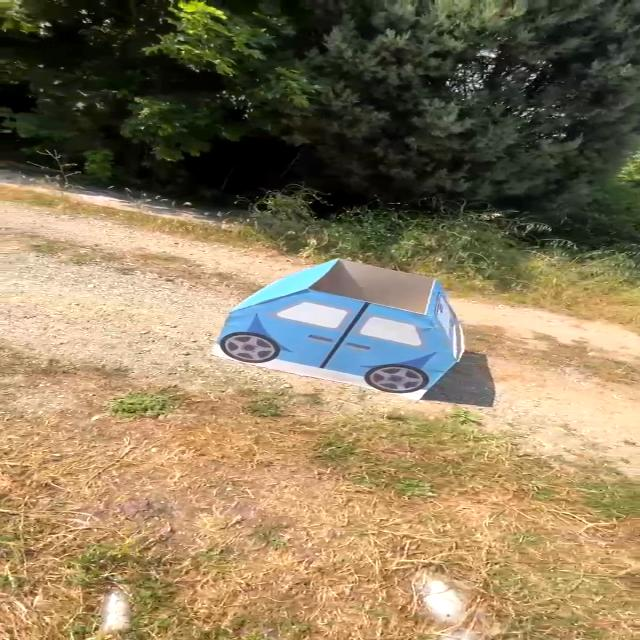blue_car: (201, 247, 478, 411)
